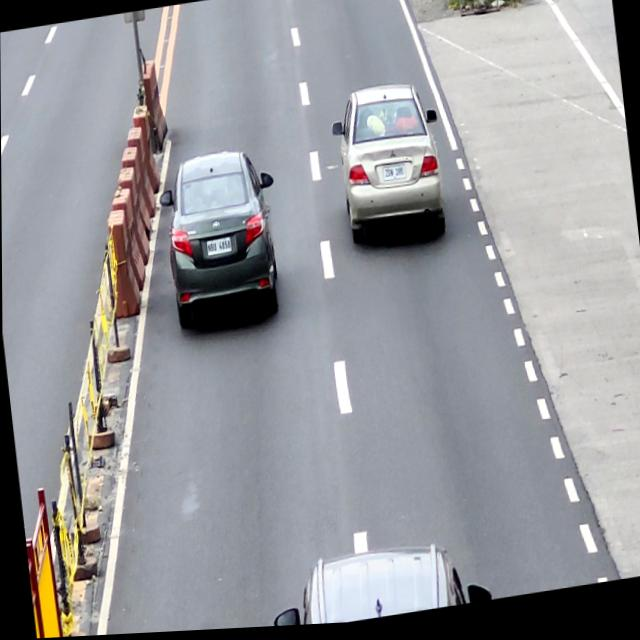Car: (155, 148, 288, 333), (326, 78, 451, 255), (265, 534, 491, 629)
License-Plate: (205, 239, 231, 257), (382, 168, 405, 185)
